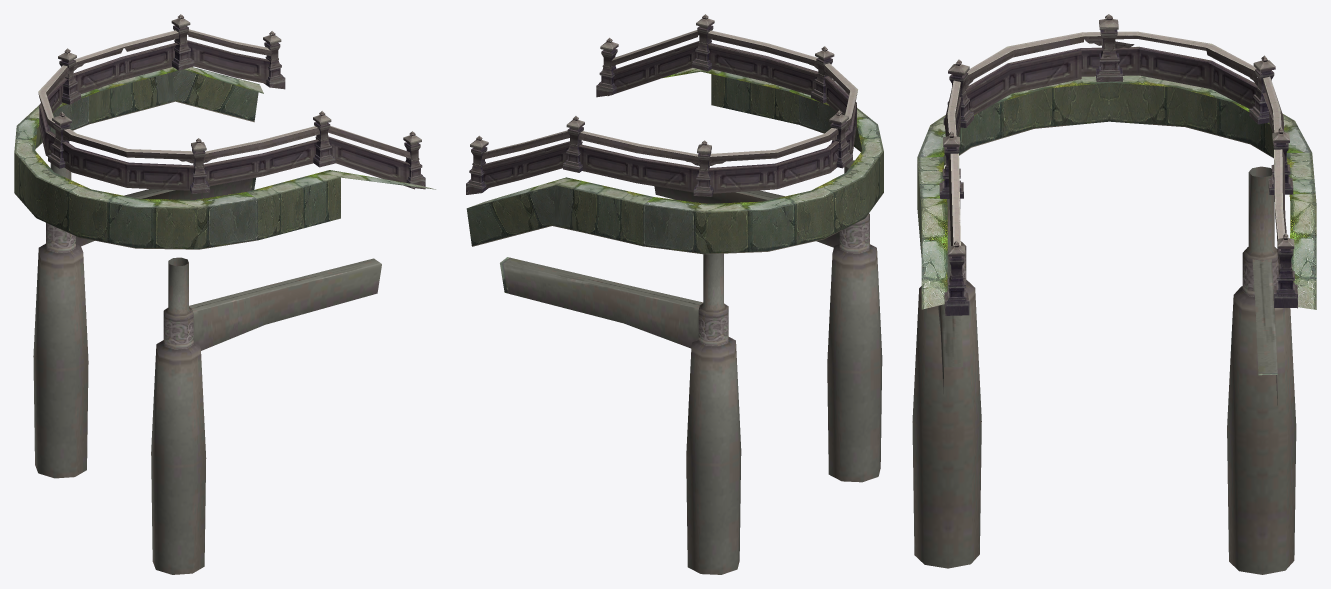
The model's file is s_battle_05_stage.FBX.
3 views of the same model, side by side, from view 1: azimuth 30°, elevation 25°; view 2: azimuth 150°, elevation 25°; view 3: azimuth 270°, elevation 25° (orthographic). The views are drawn at different scales.
Visible parts, largest first — view 1: stagexiao11, stagexiao020, stagexiao2, stagexiao1; view 2: stagexiao11, stagexiao020, stagexiao1, stagexiao2; view 3: stagexiao11, stagexiao020, stagexiao1, stagexiao2.
Part boxes in pixels (box(x1,y1,x2,y2)): stagexiao11: box(14, 67, 435, 249); stagexiao020: box(38, 14, 425, 193); stagexiao2: box(151, 257, 381, 574); stagexiao1: box(33, 163, 255, 478); stagexiao11: box(466, 68, 883, 254); stagexiao020: box(466, 14, 857, 196); stagexiao1: box(500, 253, 741, 574); stagexiao2: box(654, 160, 882, 482); stagexiao11: box(917, 75, 1316, 309); stagexiao020: box(939, 14, 1297, 315); stagexiao1: box(1227, 166, 1296, 574); stagexiao2: box(912, 199, 981, 568).
Bounding box in the file's own units: 17.45 × 21.37 × 15.33.
